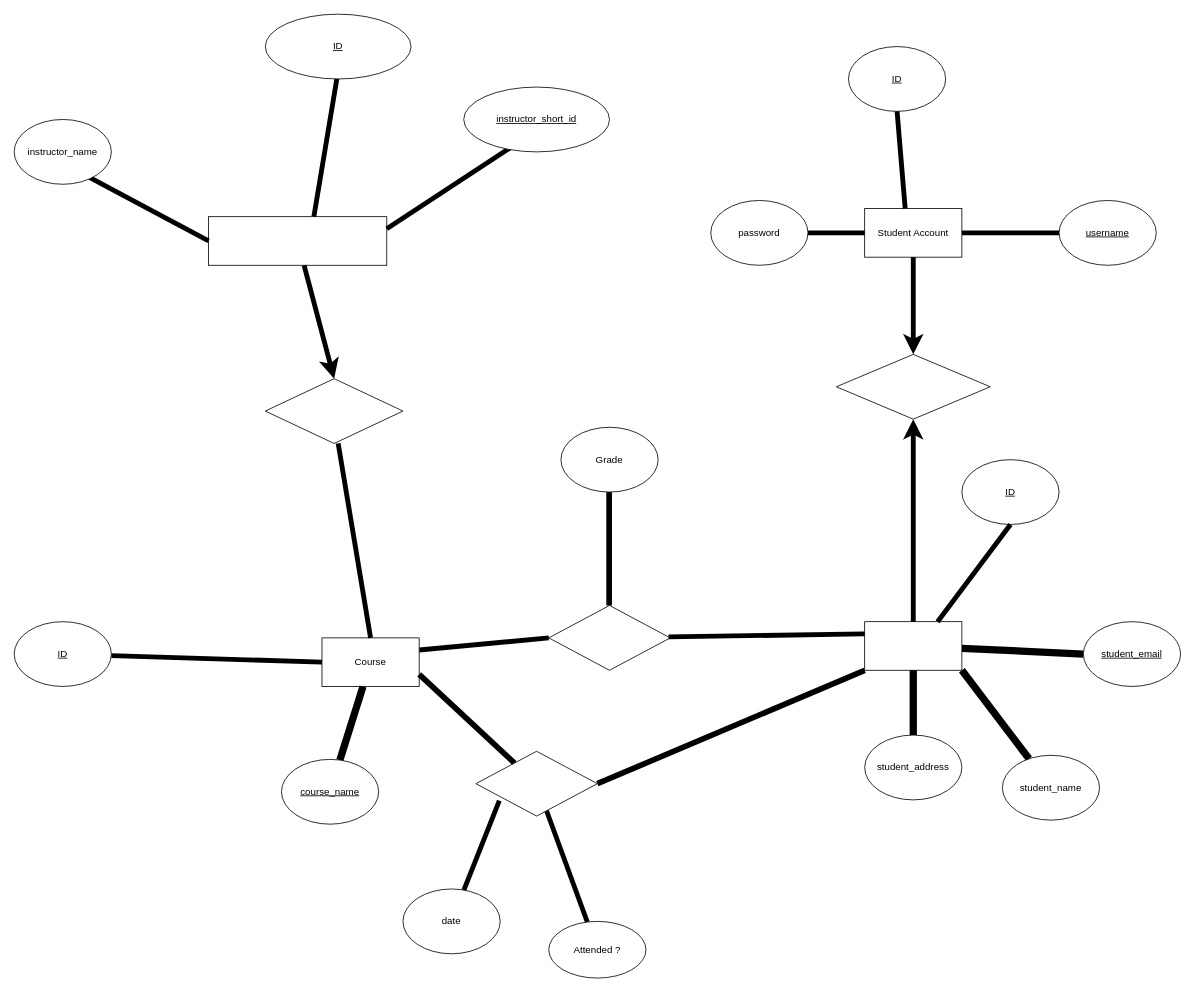
The diagram is 1195 pixels wide and 992 high, and some of its shapes have lost their labels. The shapes that lost their labels are listed below. From the top down, each one's centre as x and y in pixels, then its label:
At (x=297, y=240): "Instructor".
At (x=913, y=386): "Has A".
At (x=333, y=410): "teaches".
At (x=609, y=637): "Has enrolled".
At (x=913, y=645): "Student".
At (x=536, y=783): "Attended".
